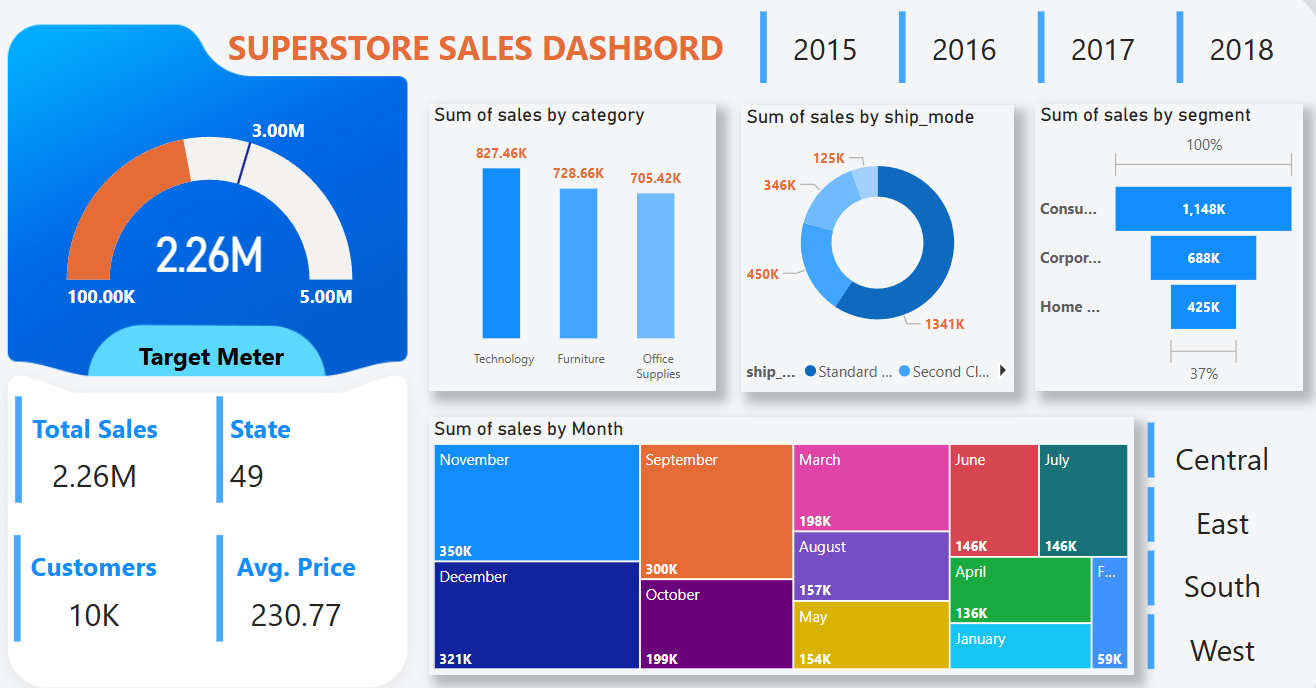

The dashboard page shown, as its layout file describes it:
{"tool":"powerbi","page":{"name":"Page 1","canvas":[1280,720],"ordinal":0},"visuals":[{"type":"cardVisual","fields":{"Data":["Sum(public sales.sales)"]},"box":[69.9,393.5,152.9,105.5],"z":0},{"type":"cardVisual","fields":{"Data":["public sales.count_state"]},"box":[250.1,393.5,152.9,105.5],"z":1000},{"type":"treemap","fields":{"Group":["public sales.order_date.Variation.Date Hierarchy.Month"],"Values":["Sum(public sales.sales)"]},"box":[444.2,416.3,630.2,230.2],"z":2000},{"type":"shape","box":[250,48.8,473.3,70.9],"z":3000},{"type":"advancedSlicerVisual","fields":{"Values":["public sales.Year"]},"box":[736,48.8,500,74.4],"z":4000},{"type":"donutChart","fields":{"Category":["public sales.ship_mode"],"Y":["Sum(public sales.sales)"]},"box":[723.3,137.2,244.2,257],"z":5000},{"type":"columnChart","fields":{"Category":["public sales.category"],"Y":["Sum(public sales.sales)"]},"box":[444.2,136,257,257],"z":6000},{"type":"advancedSlicerVisual","fields":{"Values":["public sales.region"]},"box":[1082.6,416.3,143,230.2],"z":7000},{"type":"funnel","fields":{"Category":["public sales.segment"],"Y":["Sum(public sales.sales)"]},"box":[986,136,239.5,257],"z":8000},{"type":"cardVisual","fields":{"Data":["public sales.CIST_COUNT"]},"box":[69.8,517.4,152.3,105.8],"z":9000},{"type":"cardVisual","fields":{"Data":["Avg(public sales.sales)"]},"box":[250,517.4,152.3,105.8],"z":10000},{"type":"gauge","fields":{"Y":["Sum(public sales.sales)"]},"box":[94.2,136,310.5,194.2],"z":11000},{"type":"shape","box":[100,325.6,300,69.8],"z":11001}]}

Visuals, with their boxes on the page's 1280x720 design canvas (x1, y1, x2, y2). These are canvas units, not pixel positions in the 1316x688 screenshot, which may show the page scaled, cropped or inside an application window:
cardVisual - Sum(public sales.sales): bbox=[70, 394, 223, 499]
cardVisual - public sales.count_state: bbox=[250, 394, 403, 499]
treemap - public sales.order_date.Variation.Date Hierarchy.Month x Sum(public sales.sales): bbox=[444, 416, 1074, 646]
shape: bbox=[250, 49, 723, 120]
advancedSlicerVisual - public sales.Year: bbox=[736, 49, 1236, 123]
donutChart - public sales.ship_mode x Sum(public sales.sales): bbox=[723, 137, 968, 394]
columnChart - public sales.category x Sum(public sales.sales): bbox=[444, 136, 701, 393]
advancedSlicerVisual - public sales.region: bbox=[1083, 416, 1226, 646]
funnel - public sales.segment x Sum(public sales.sales): bbox=[986, 136, 1226, 393]
cardVisual - public sales.CIST_COUNT: bbox=[70, 517, 222, 623]
cardVisual - Avg(public sales.sales): bbox=[250, 517, 402, 623]
gauge - Sum(public sales.sales): bbox=[94, 136, 405, 330]
shape: bbox=[100, 326, 400, 395]
